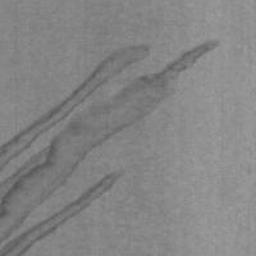Water spot: (0, 40, 221, 256)
